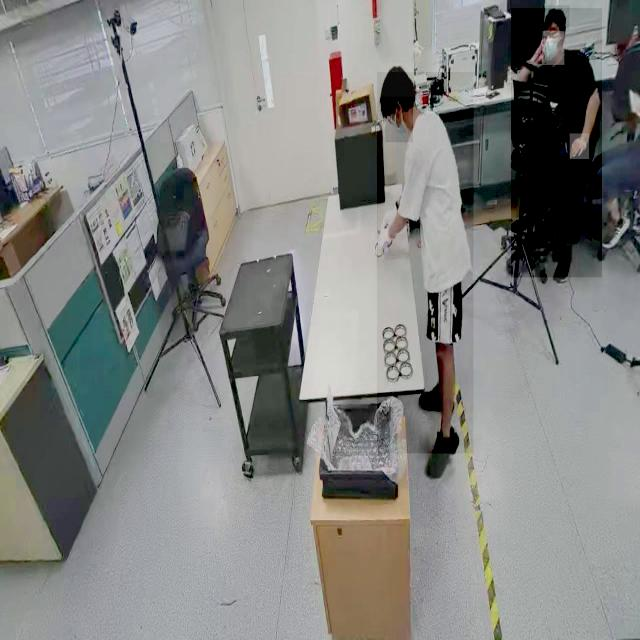face_mask: (385, 102, 413, 142), (542, 31, 564, 66)
hand_glove: (378, 206, 398, 258)
hand_noglove: (569, 133, 589, 160), (538, 35, 546, 65)
head_nohelmet: (381, 63, 416, 98), (543, 5, 569, 31)
person: (376, 72, 474, 454), (510, 8, 602, 278)
shoes: (424, 421, 459, 479), (415, 376, 457, 414)
